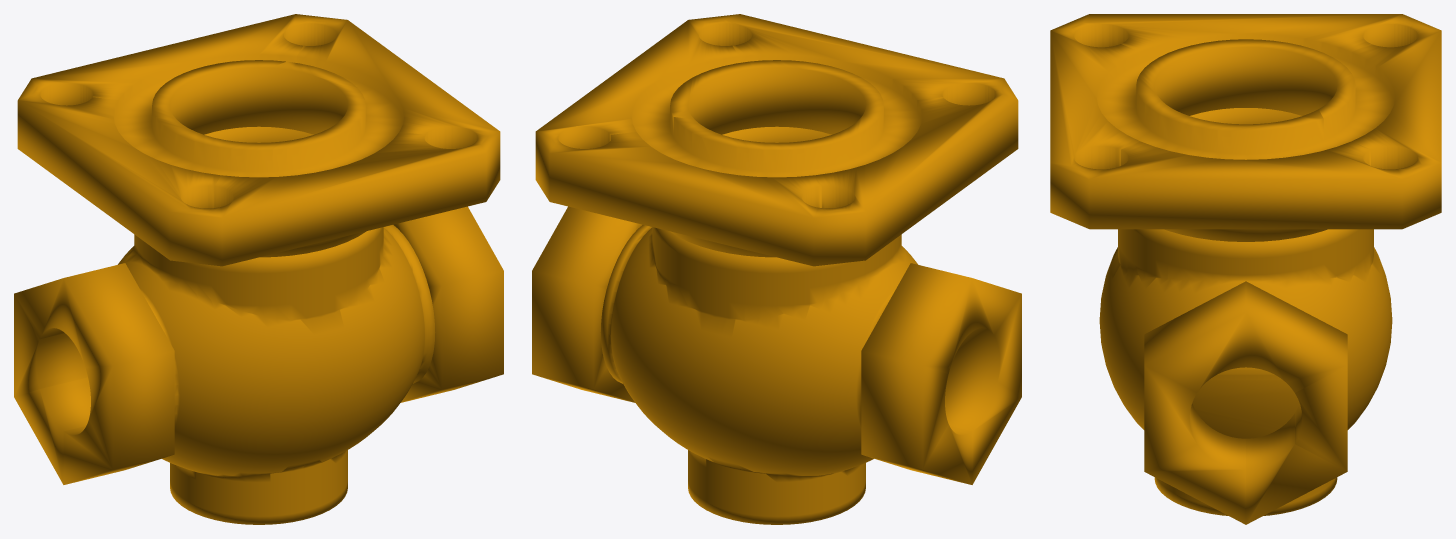
File: Hydrant1.glb
The picture shows the model from 3 angles, left to right: view 1: azimuth 30°, elevation 25°; view 2: azimuth 150°, elevation 25°; view 3: azimuth 270°, elevation 25°; orthographic projection. The views are drawn at different scales.
Parts seen in each view (by area): view 1: Mesh.005, Mesh.004, Mesh.002, Mesh.003, Mesh; view 2: Mesh.005, Mesh.004, Mesh.002, Mesh.003, Mesh; view 3: Mesh.005, Mesh.003, Mesh.004, Mesh.001, Mesh.
Boxes of the visible parts, left/top/right/bottom form: Mesh.005: left=17, top=14, right=500, bottom=266; Mesh.004: left=118, top=225, right=435, bottom=524; Mesh.002: left=14, top=263, right=174, bottom=484; Mesh.003: left=393, top=206, right=503, bottom=402; Mesh: left=204, top=126, right=366, bottom=257; Mesh.005: left=535, top=14, right=1018, bottom=266; Mesh.004: left=600, top=225, right=917, bottom=524; Mesh.002: left=861, top=263, right=1021, bottom=484; Mesh.003: left=532, top=206, right=642, bottom=402; Mesh: left=669, top=126, right=831, bottom=257; Mesh.005: left=1050, top=14, right=1441, bottom=229; Mesh.003: left=1144, top=281, right=1347, bottom=524; Mesh.004: left=1099, top=229, right=1392, bottom=515; Mesh.001: left=1192, top=367, right=1299, bottom=438; Mesh: left=1164, top=108, right=1327, bottom=241.
Size of the model in its own units: 2.93 by 2.73 by 2.47.
